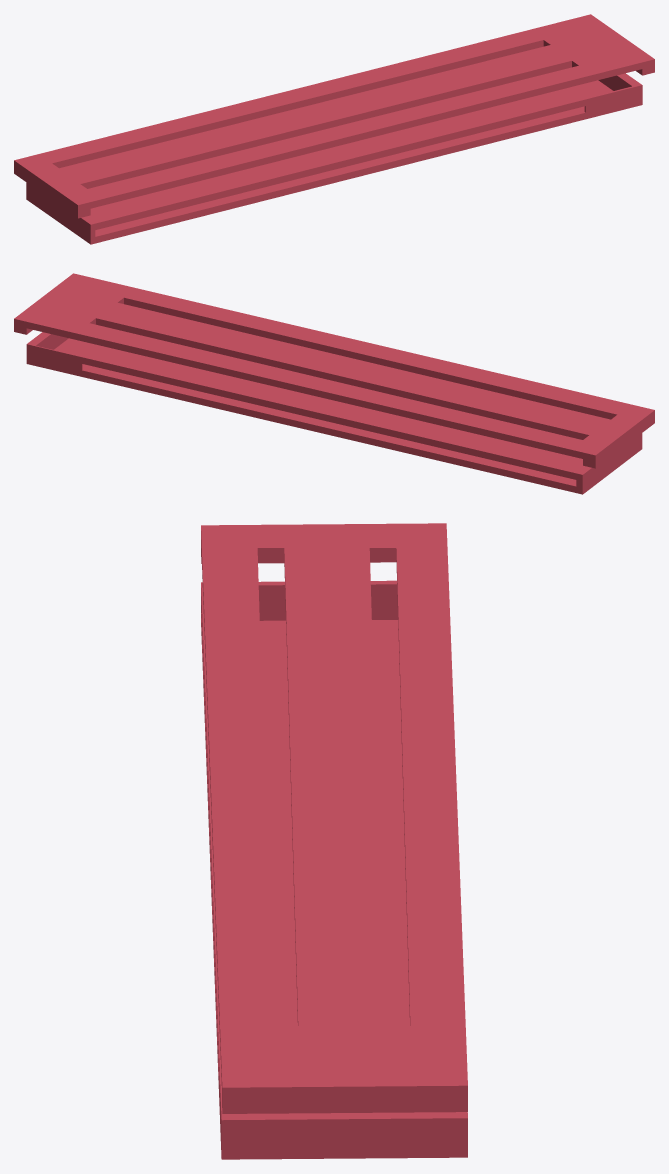
Rendered from Compartment Design #1 - Victor Siooh.glb.
The picture shows the model from 3 angles, top to bottom: view 1: azimuth 30°, elevation 25°; view 2: azimuth 150°, elevation 25°; view 3: azimuth 270°, elevation 25°; orthographic projection. The views are drawn at different scales.
Visible parts, largest first — view 1: Mesh_Mesh_head_geo.001_lambert2SG.001; view 2: Mesh_Mesh_head_geo.001_lambert2SG.001; view 3: Mesh_Mesh_head_geo.001_lambert2SG.001.
Boxes of the visible parts, x1,y1,x2,y2 form: Mesh_Mesh_head_geo.001_lambert2SG.001: (14, 14, 654, 244); Mesh_Mesh_head_geo.001_lambert2SG.001: (14, 273, 654, 494); Mesh_Mesh_head_geo.001_lambert2SG.001: (201, 523, 467, 1159).
Size of the model in its own units: 230 by 16 by 46.
